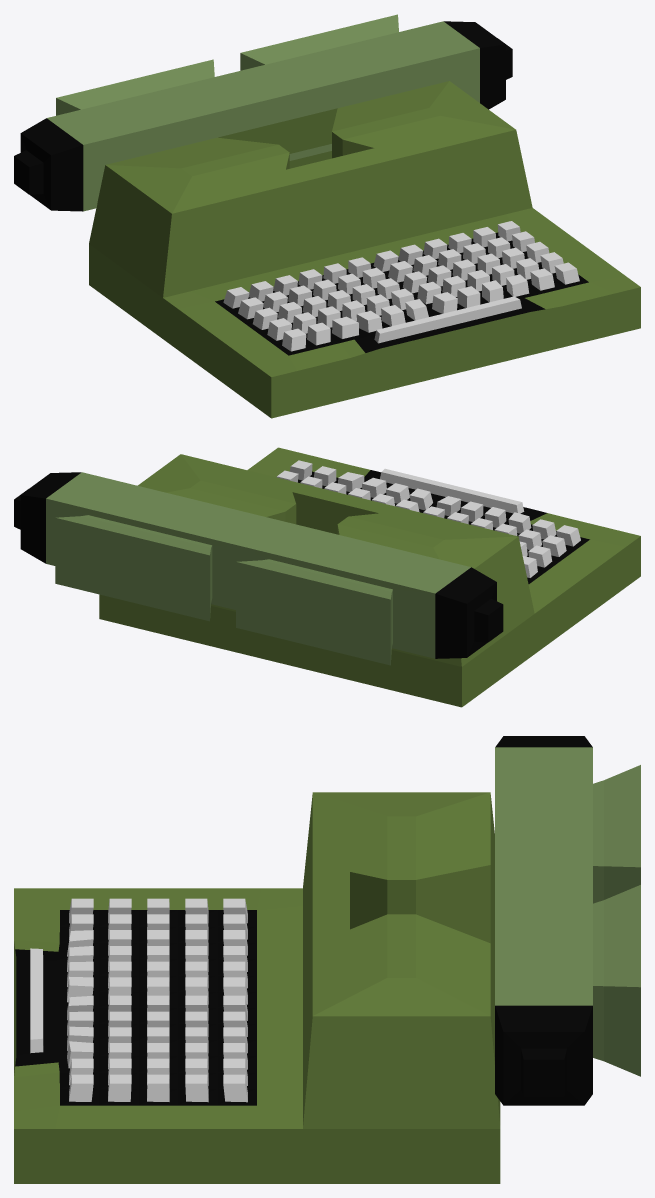
File: Typewriter.fbx
The picture shows the model from 3 angles, top to bottom: view 1: azimuth 30°, elevation 25°; view 2: azimuth 150°, elevation 25°; view 3: azimuth 270°, elevation 25°; orthographic projection. The views are drawn at different scales.
Parts seen in each view (by area): view 1: Cube, Cube.001; view 2: Cube.001, Cube; view 3: Cube, Cube.001.
Part boxes in pixels (box(x1,y1,x2,y2)): Cube: box(89, 81, 640, 418); Cube.001: box(14, 14, 512, 211); Cube.001: box(14, 472, 503, 665); Cube: box(99, 447, 640, 707); Cube: box(14, 792, 500, 1183); Cube.001: box(495, 736, 640, 1105).
Size of the model in its own units: 15.21 by 12.81 by 4.32.
